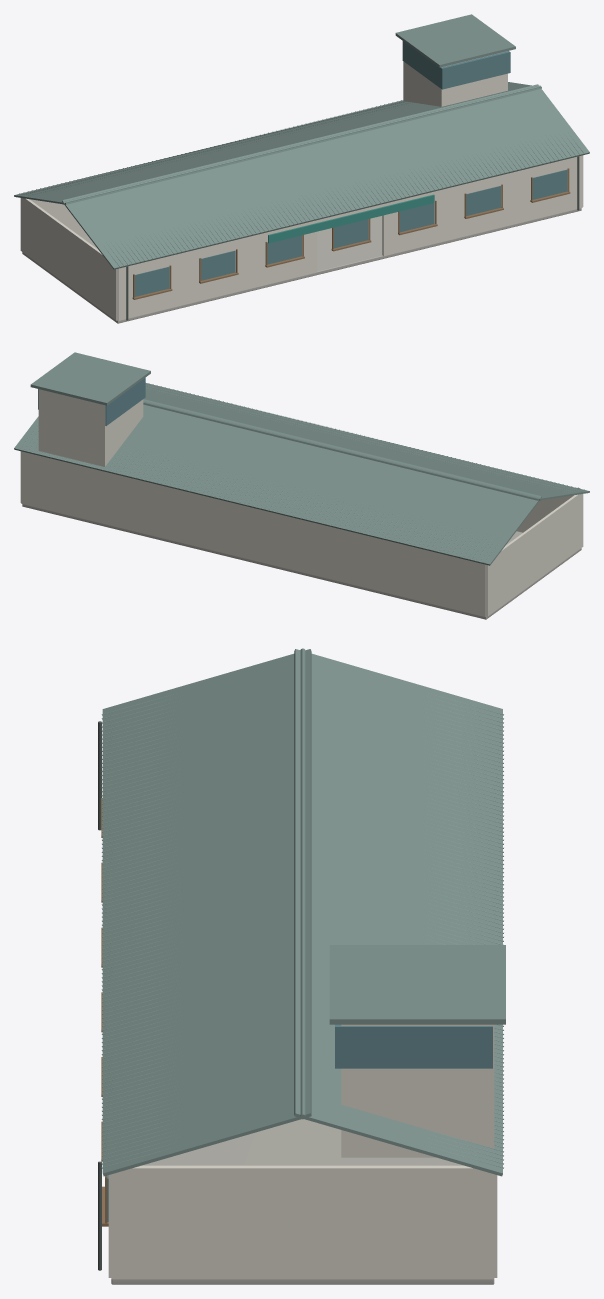
The model's file is airport.glb.
3 renders of one model, top to bottom at view 1: azimuth 30°, elevation 25°; view 2: azimuth 150°, elevation 25°; view 3: azimuth 270°, elevation 25°, orthographic. The views are drawn at different scales.
Visible parts, largest first — view 1: roof, plaster, glass, concrete, wood, teal; view 2: roof, plaster, concrete, glass; view 3: roof, plaster, concrete, glass, steel.
Part boxes in pixels (left/top/right/bottom): roof: left=14, top=14, right=589, bottom=269; plaster: left=20, top=51, right=583, bottom=320; glass: left=135, top=41, right=567, bottom=296; concrete: left=22, top=208, right=581, bottom=323; wood: left=132, top=168, right=570, bottom=299; teal: left=268, top=194, right=434, bottom=243; roof: left=14, top=352, right=589, bottom=565; plaster: left=20, top=389, right=583, bottom=616; concrete: left=22, top=504, right=581, bottom=619; glass: left=38, top=377, right=145, bottom=425; roof: left=101, top=648, right=505, bottom=1176; plaster: left=108, top=1024, right=497, bottom=1279; concrete: left=111, top=1119, right=494, bottom=1284; glass: left=107, top=1024, right=492, bottom=1221; steel: left=98, top=721, right=101, bottom=1270.
Size of the model in its own units: 28.8 by 7.32 by 10.65.
